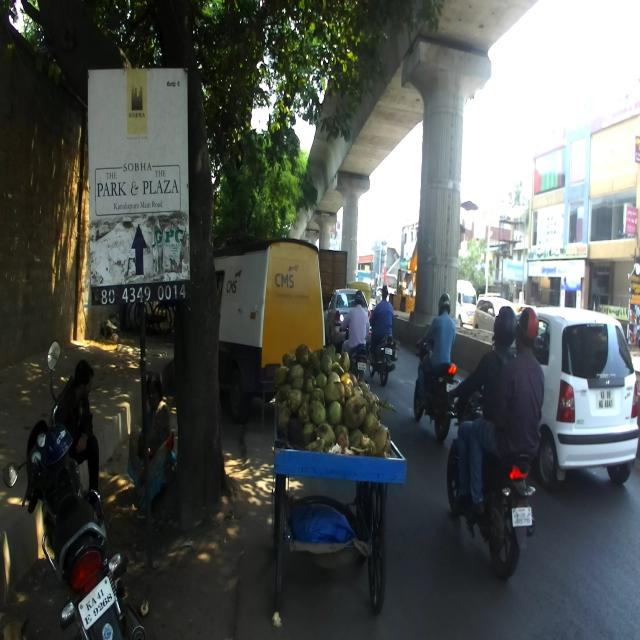car: (491, 306, 638, 490), (474, 295, 518, 337)
motorcycle: (2, 338, 150, 639), (442, 374, 535, 578), (413, 338, 460, 444)
truck: (214, 233, 325, 422)
